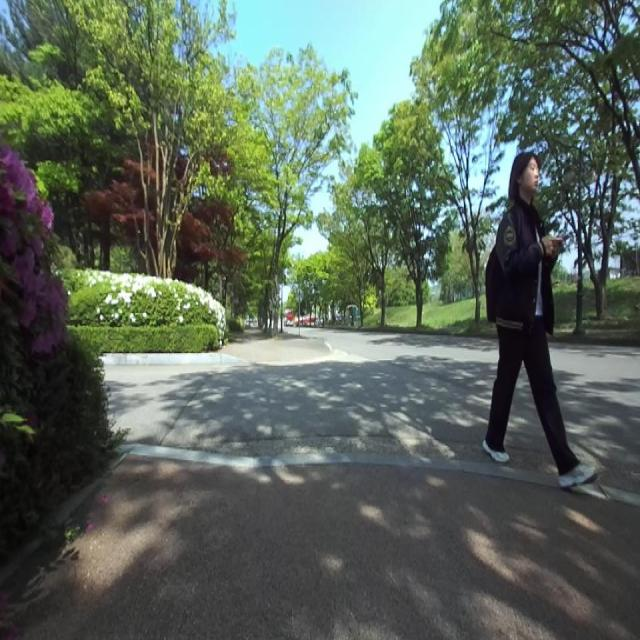sidewalk: (0, 456, 640, 640), (120, 443, 560, 488), (222, 327, 330, 364), (572, 484, 640, 507)
